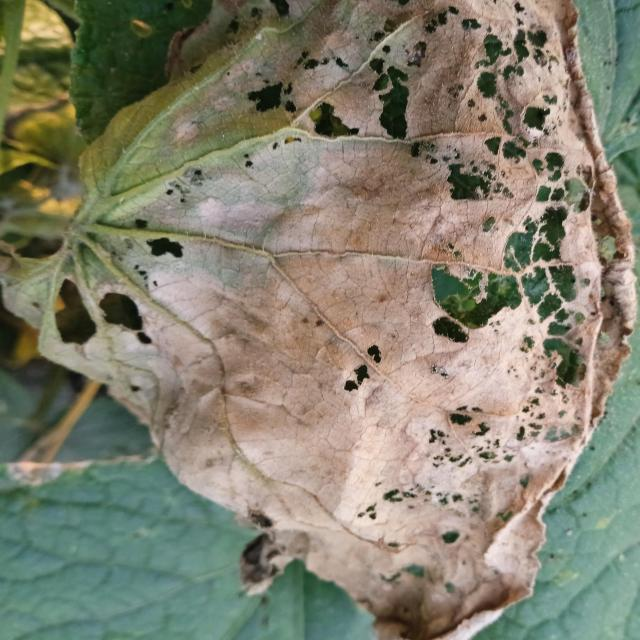cucumber_anthracnose: (23, 7, 630, 613)
